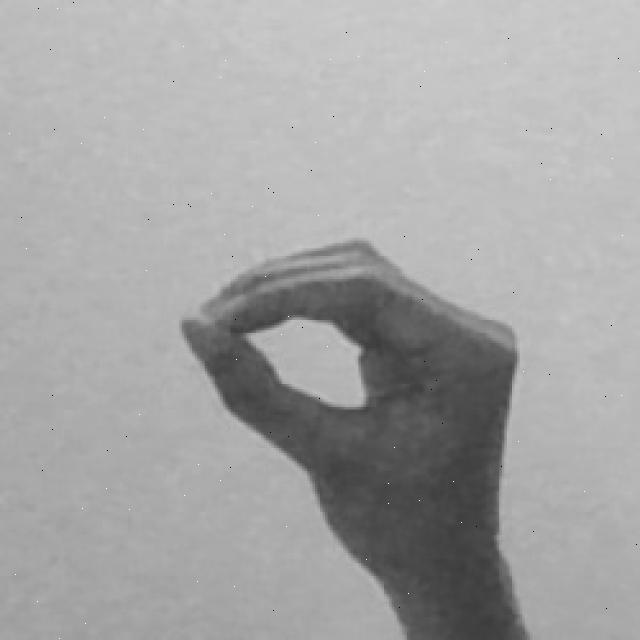O: (172, 234, 536, 640)
